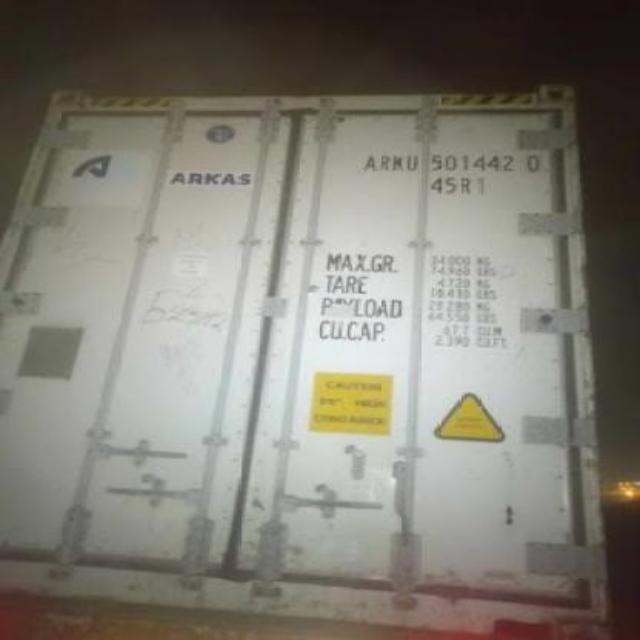0: (522, 153, 546, 171), (446, 154, 458, 170)
1: (460, 154, 472, 170)
2: (500, 152, 518, 174)
4: (488, 153, 502, 171), (474, 153, 486, 171)
5: (431, 154, 444, 170)
A: (362, 152, 376, 174)
K: (392, 152, 404, 175)
R: (378, 153, 392, 171)
U: (406, 152, 418, 174)
